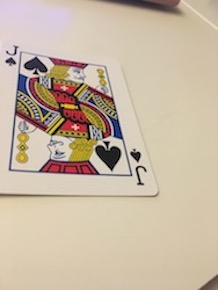JackOfSpades: (1, 36, 170, 203)
